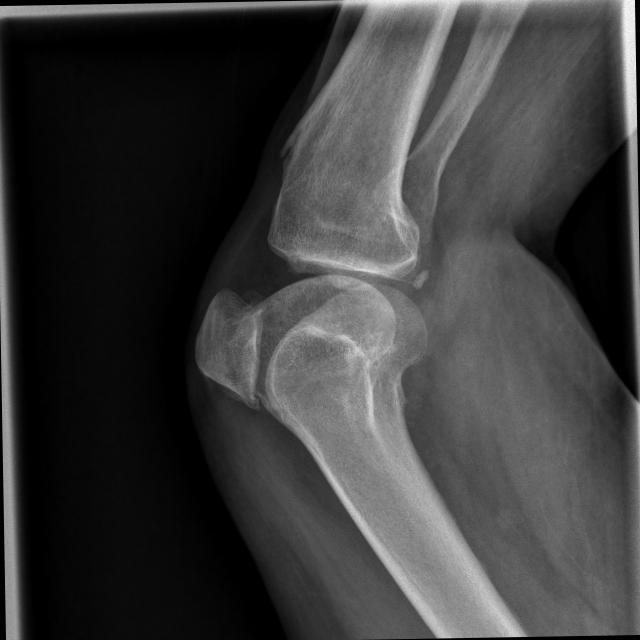Knee: (192, 212, 440, 405)
